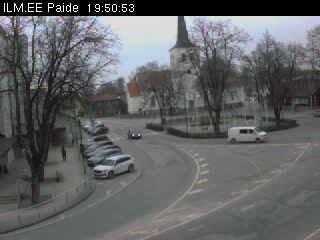car: (93, 153, 135, 180), (227, 126, 268, 143), (89, 150, 123, 169), (88, 144, 120, 163), (85, 141, 113, 159), (81, 135, 111, 151), (87, 123, 105, 134), (90, 126, 110, 135), (128, 128, 142, 140), (84, 120, 100, 130)
person: (61, 144, 67, 160)
